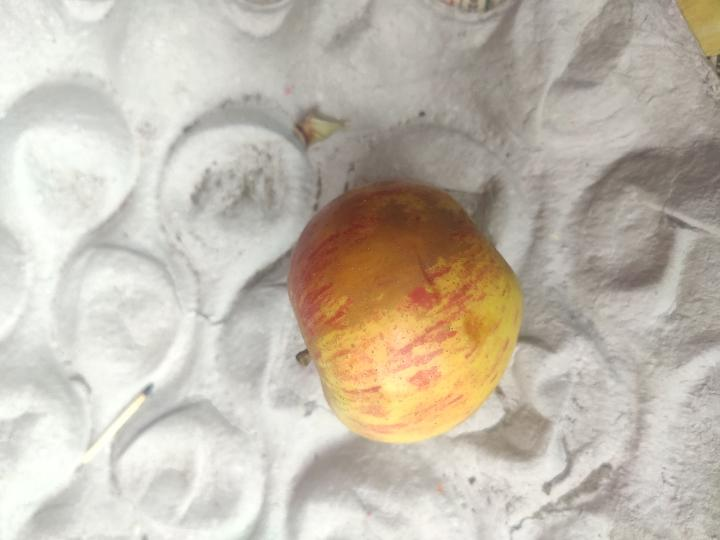apple: (288, 182, 522, 442)
bruise_discoloration: (290, 192, 488, 326)
